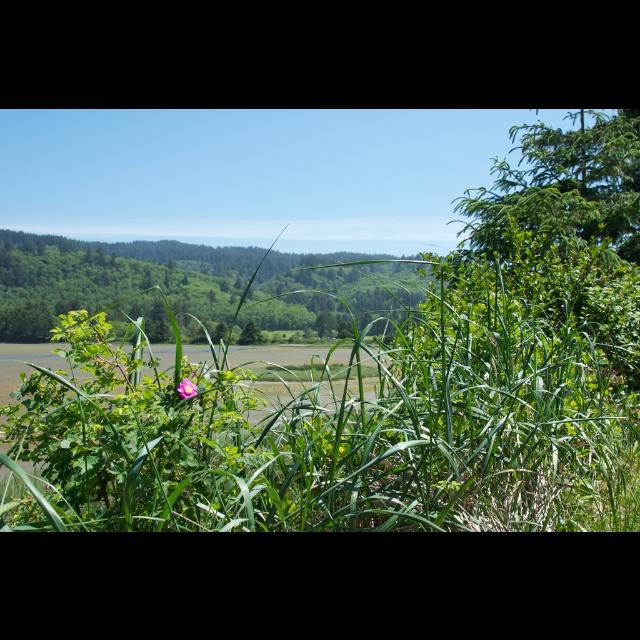Flower: (182, 378, 196, 398)
